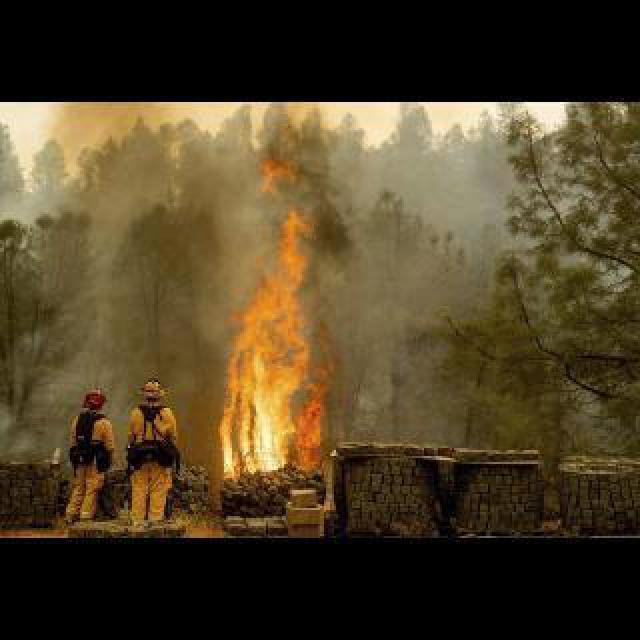Fire: (212, 194, 340, 482)
Smoke: (278, 117, 360, 266)
